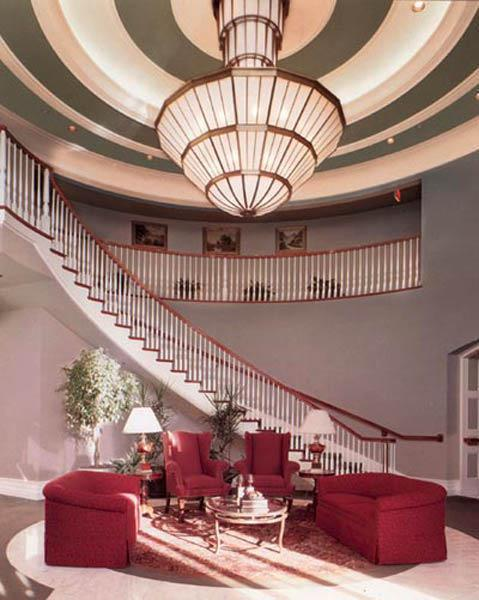Escaleras: (49, 191, 394, 472)
